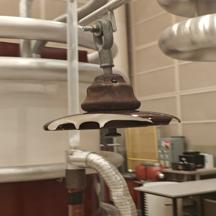insulator: (36, 67, 193, 154)
